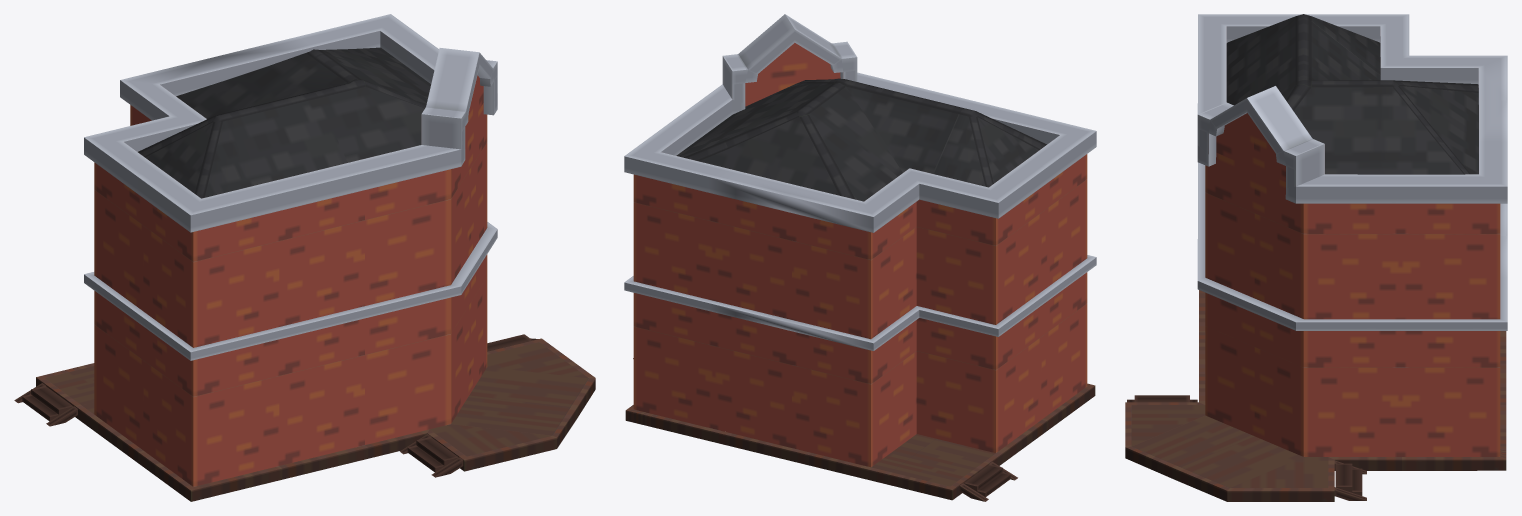
File: house_v2_blank_ncl1_1.fbx
3 renders of one model, left to right at view 1: azimuth 30°, elevation 25°; view 2: azimuth 150°, elevation 25°; view 3: azimuth 270°, elevation 25°, orthographic. The views are drawn at different scales.
Visible parts, largest first — view 1: house_v2_blank; view 2: house_v2_blank; view 3: house_v2_blank.
Boxes of the visible parts, box(x1,y1,x2,y2) form: house_v2_blank: box(14, 14, 595, 501); house_v2_blank: box(624, 14, 1096, 501); house_v2_blank: box(1125, 14, 1507, 501).
Size of the model in its own units: 1043 by 792 by 778.
